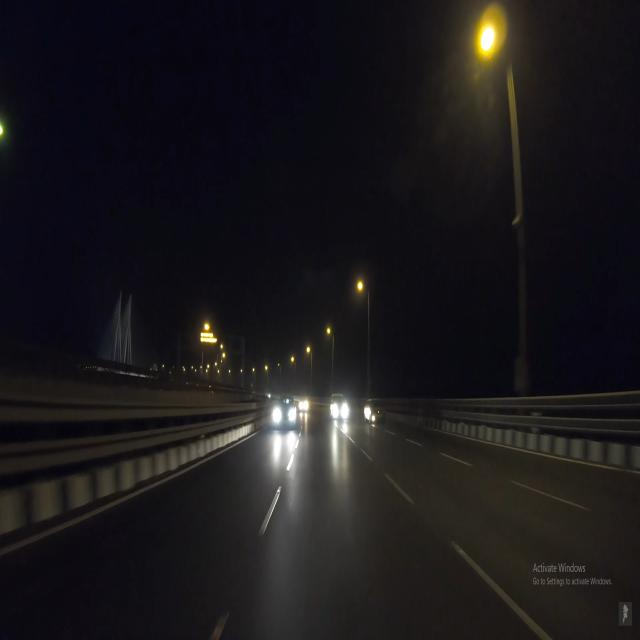headlights: (268, 400, 305, 432)
